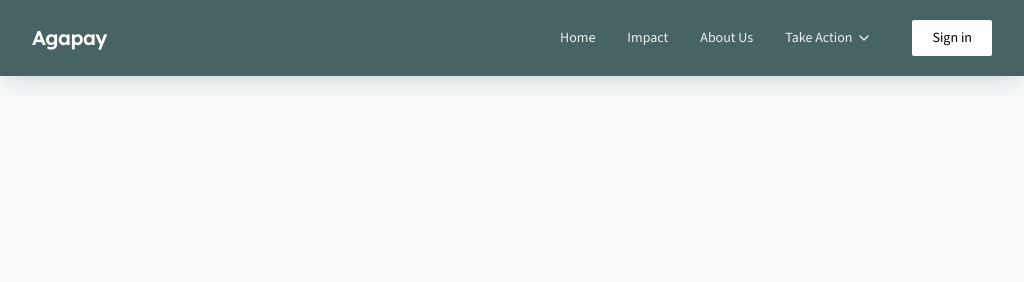
LandingHeader public navigation › shows the restored links with the journey links in a dropdown
(page scrolled)
Click the button "Take Action".
click(829, 38)  # box [785,16,872,60]
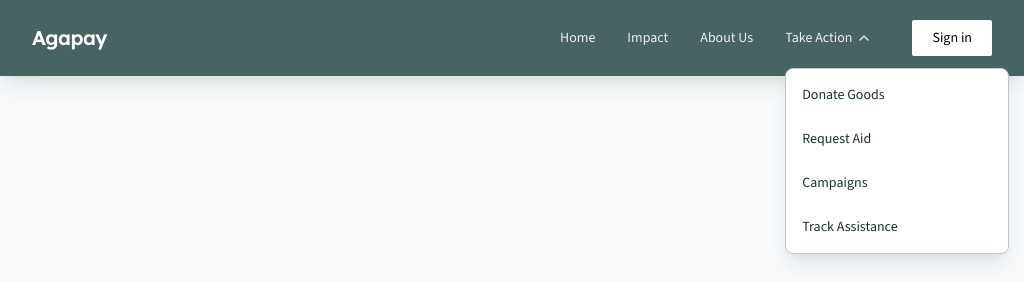
expect the menu named "Take action" shows "Donate Goods": met, box [790,73,1004,117]
expect the menu named "Take action" shows "Request Aid": met, box [790,117,1004,161]
expect the menu named "Take action" shows "Campaigns": met, box [790,161,1004,205]
